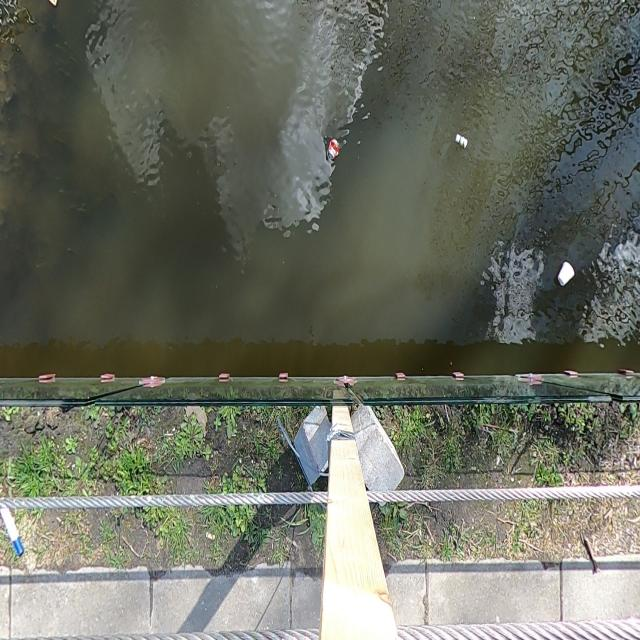Non plastique: (556, 256, 577, 289), (325, 135, 341, 167), (455, 128, 470, 155)
